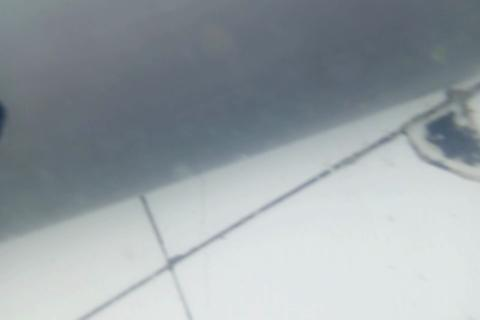kebocoran: (0, 95, 8, 140)
